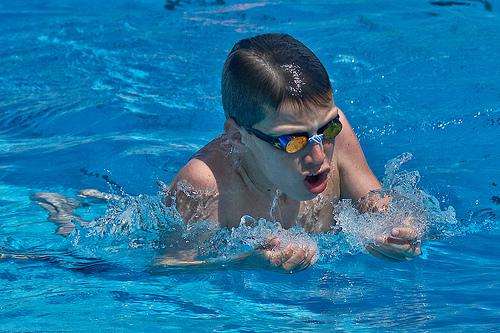human: (154, 21, 433, 278)
